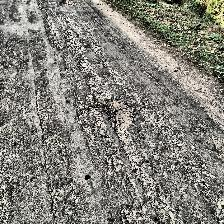pothole: (102, 97, 134, 132)
